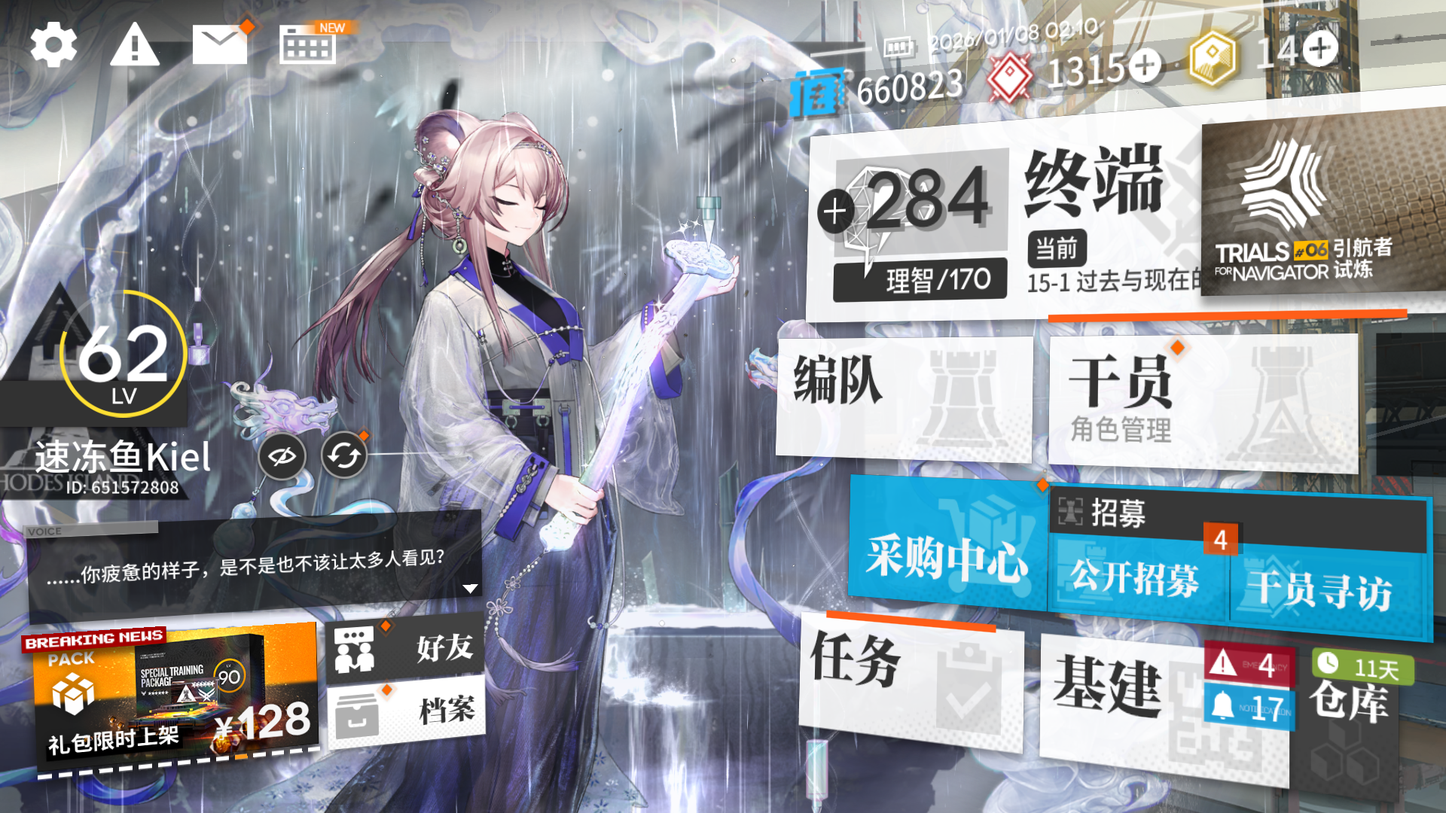home_button: (1021, 142, 1168, 234)
infrastructure_button: (1041, 633, 1274, 754)
